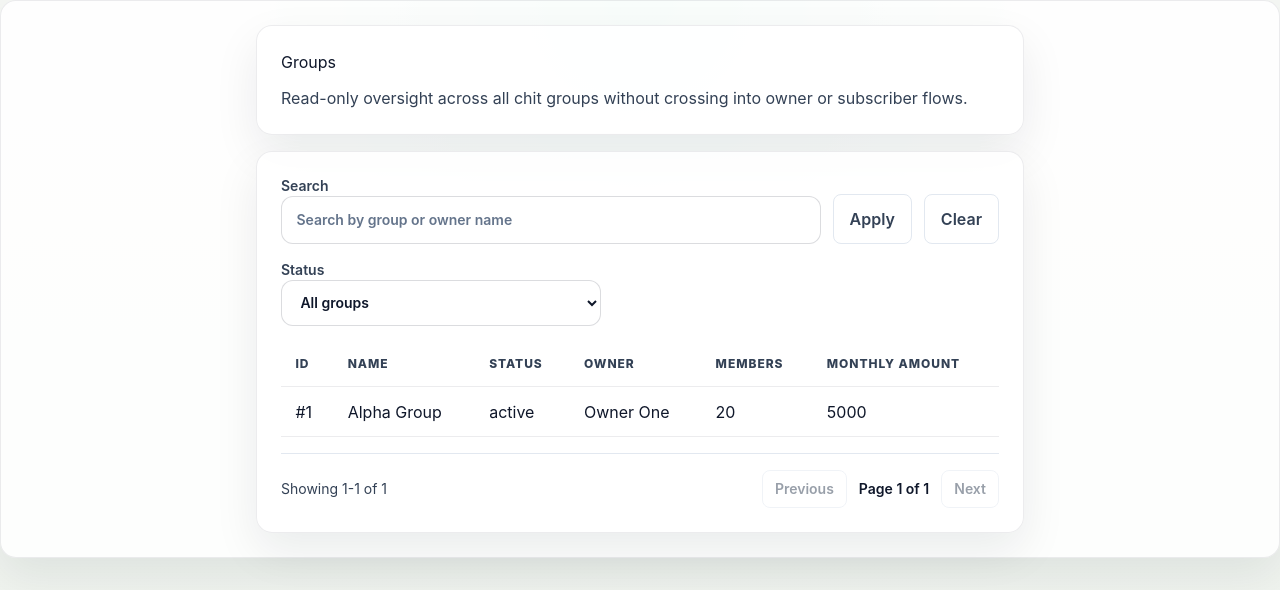
AdminGroupsPage applies a name search from the admin toolbar
Expected: the link "Alpha Group" is shown, [348,402,442,422]
Type "search" into the search field labelled "Search" at (551,220), box [281,196,820,244]
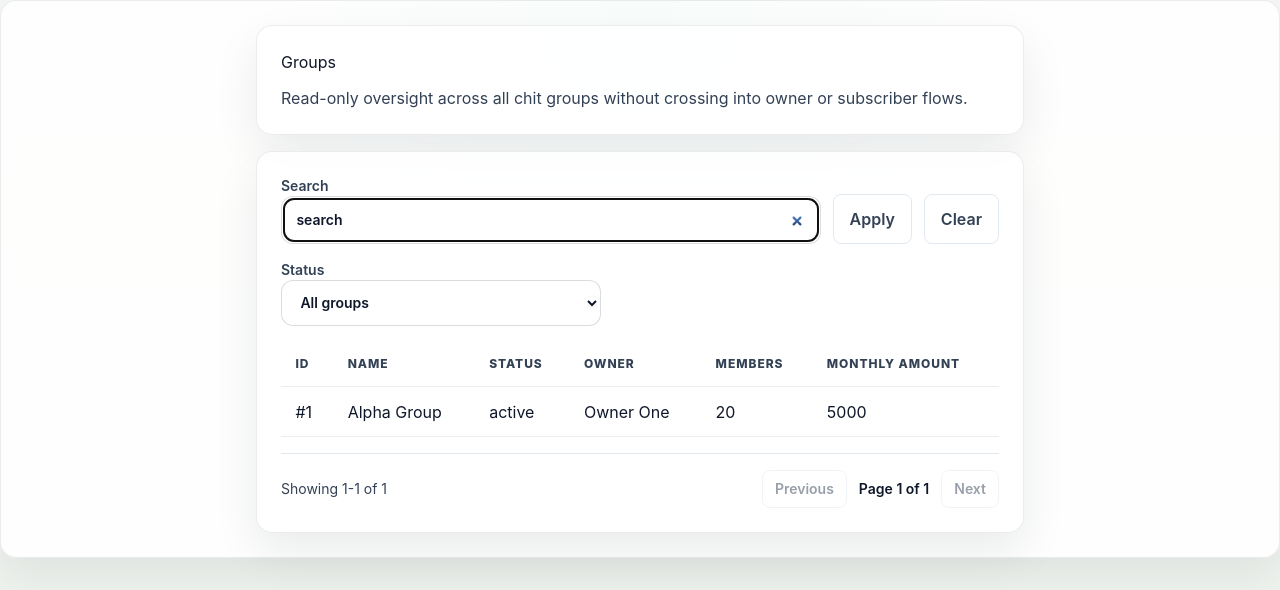
Click the button with aria-label "Apply search" at (872,219), box [832,194,912,244]
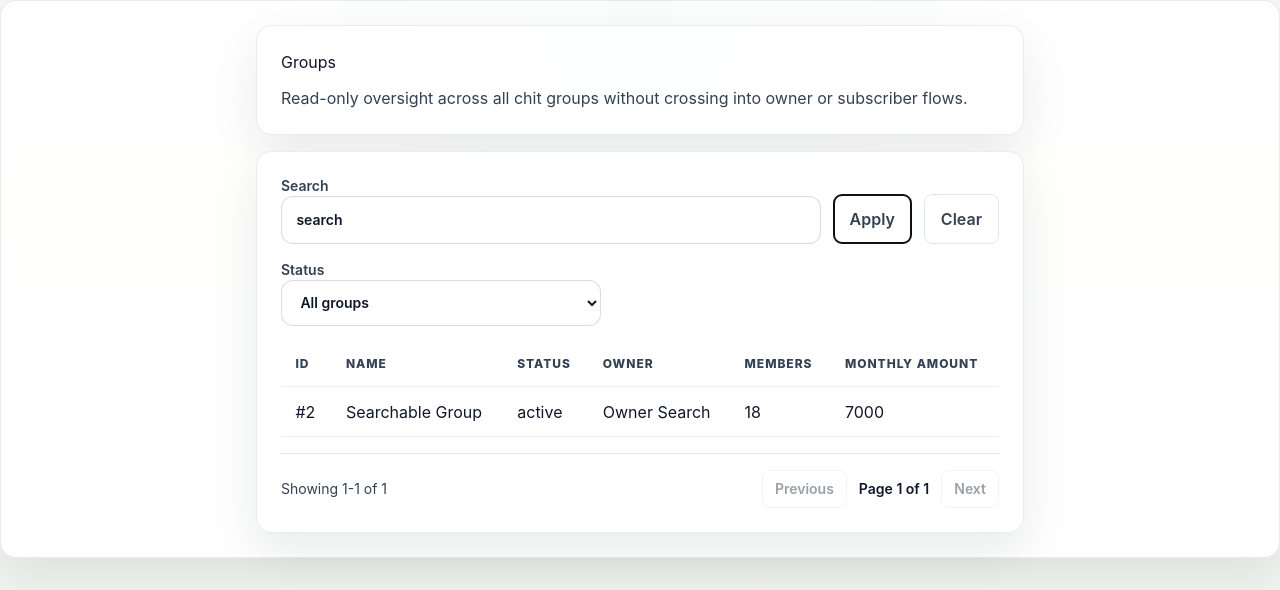
Expected: the link "Searchable Group" is shown, [346,402,482,422]
